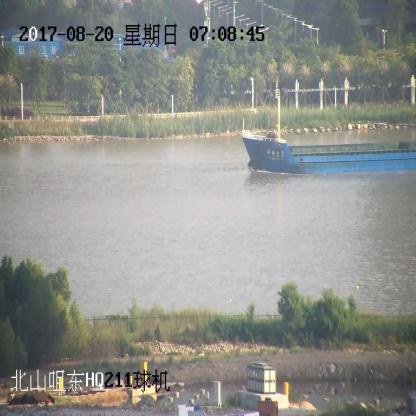Bulk Carrier: (243, 93, 416, 177)
